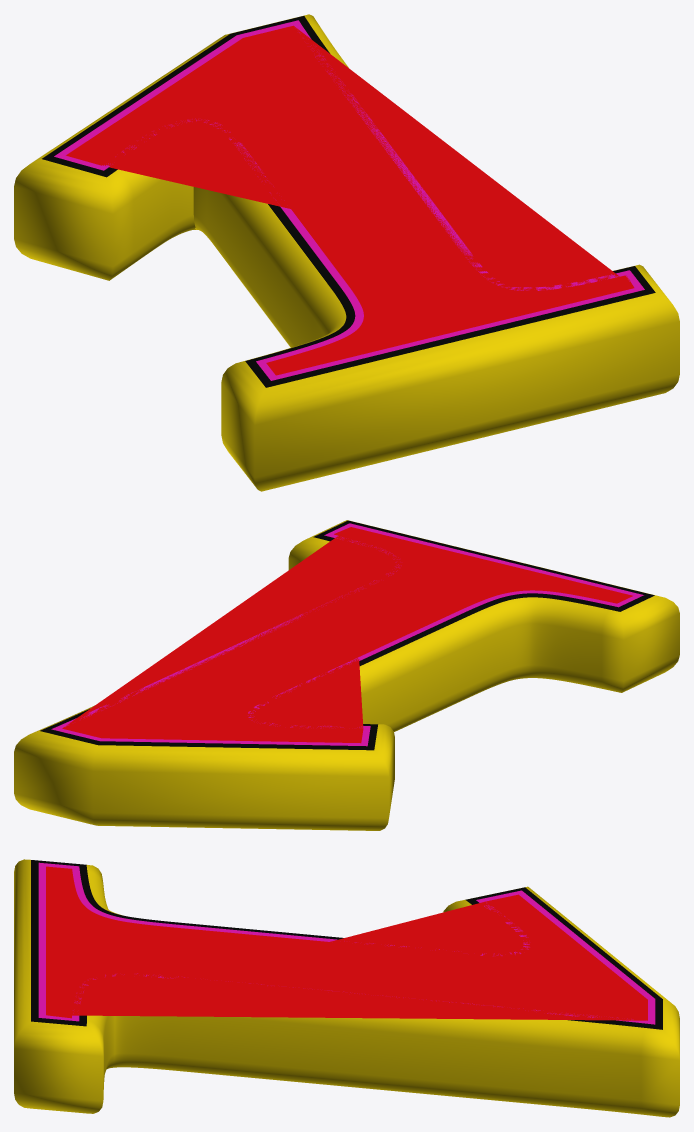
Rendered from Slot_Numbers_One.fbx.
The picture shows the model from 3 angles, top to bottom: view 1: azimuth 30°, elevation 25°; view 2: azimuth 150°, elevation 25°; view 3: azimuth 270°, elevation 25°; orthographic projection. The views are drawn at different scales.
Parts seen in each view (by area): view 1: Object; view 2: Object; view 3: Object.
Boxes of the visible parts, x1,y1,x2,y2 form: Object: [14, 14, 679, 491]; Object: [14, 520, 679, 830]; Object: [14, 859, 679, 1117].
Bounding box in the file's own units: 36.18 × 8 × 54.11.
